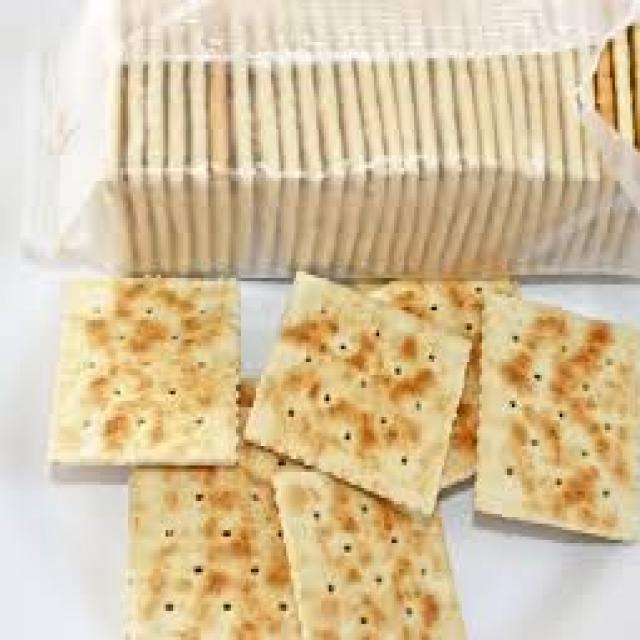Cracker: (253, 268, 467, 526), (30, 259, 254, 479), (472, 294, 640, 533)
